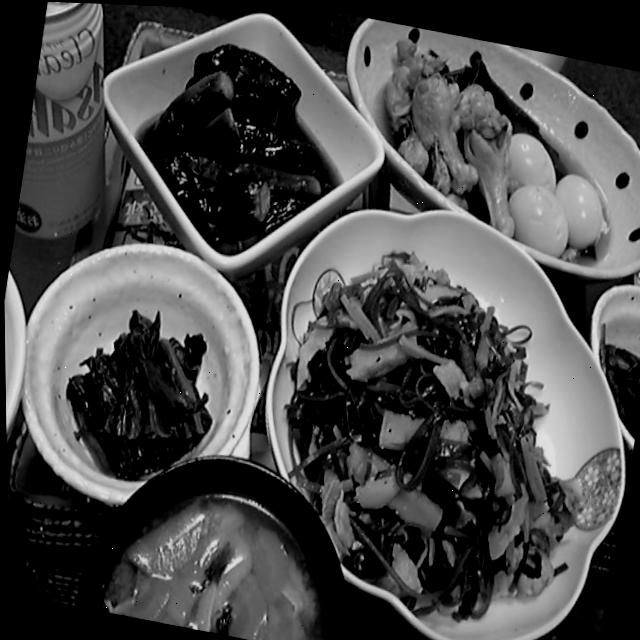汤锅炖物: (84, 479, 351, 640)
鸡蛋料理: (108, 13, 354, 270)
